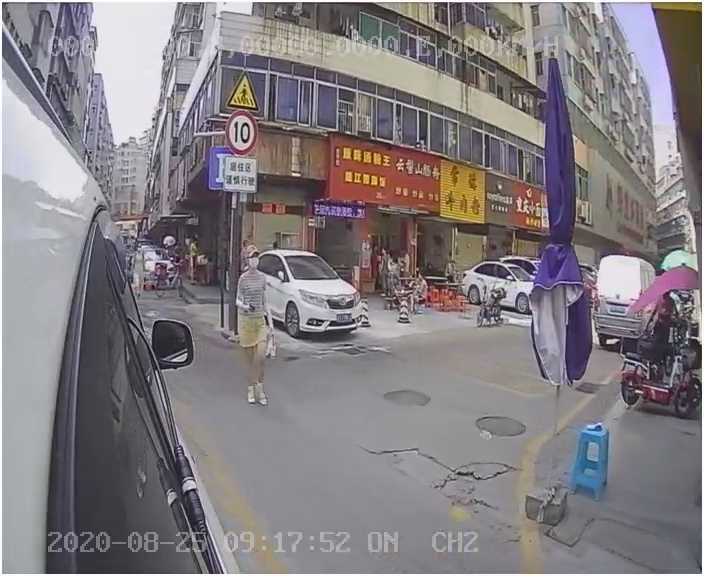person: (226, 248, 285, 414)
